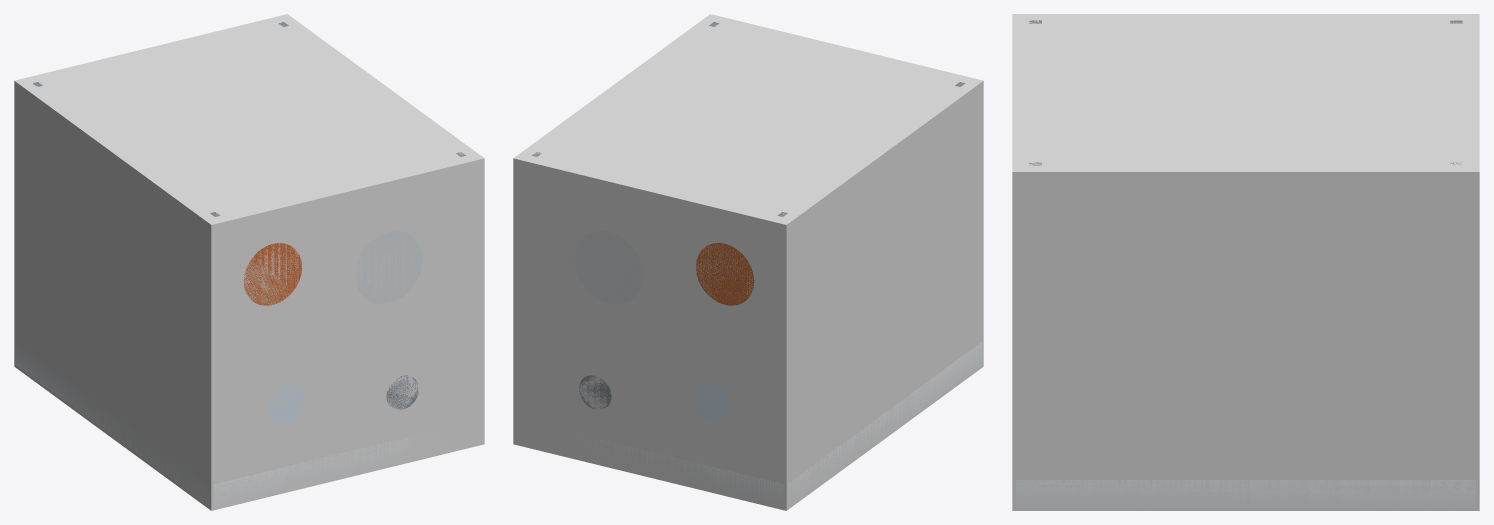
The model's file is m3_pipe_plant.glb.
3 renders of one model, left to right at view 1: azimuth 30°, elevation 25°; view 2: azimuth 150°, elevation 25°; view 3: azimuth 270°, elevation 25°, orthographic. The views are drawn at different scales.
Parts seen in each view (by area): view 1: COL_m3_pipe_plant, m3_pipe_plant_ir_plaster, m3_pipe_plant_ir_white, m3_pipe_plant_ir_orange, m3_pipe_plant_ir_blue, m3_pipe_plant_ir_steel; view 2: COL_m3_pipe_plant, m3_pipe_plant_ir_plaster, m3_pipe_plant_ir_white, m3_pipe_plant_ir_orange, m3_pipe_plant_ir_blue, m3_pipe_plant_ir_steel; view 3: COL_m3_pipe_plant, m3_pipe_plant_ir_plaster.
Part boxes in pixels (<box>): COL_m3_pipe_plant: <box>14,14,484,510</box>; m3_pipe_plant_ir_plaster: <box>15,342,458,507</box>; m3_pipe_plant_ir_white: <box>355,231,422,303</box>; m3_pipe_plant_ir_orange: <box>243,243,301,305</box>; m3_pipe_plant_ir_blue: <box>268,383,304,422</box>; m3_pipe_plant_ir_steel: <box>33,22,466,409</box>; COL_m3_pipe_plant: <box>513,14,983,510</box>; m3_pipe_plant_ir_plaster: <box>576,342,982,507</box>; m3_pipe_plant_ir_white: <box>575,231,642,303</box>; m3_pipe_plant_ir_orange: <box>695,243,754,305</box>; m3_pipe_plant_ir_blue: <box>693,383,729,422</box>; m3_pipe_plant_ir_steel: <box>531,22,964,409</box>; COL_m3_pipe_plant: <box>1012,14,1479,510</box>; m3_pipe_plant_ir_plaster: <box>1015,480,1476,507</box>.
Bounding box in the file's own units: 4 × 4 × 5.
